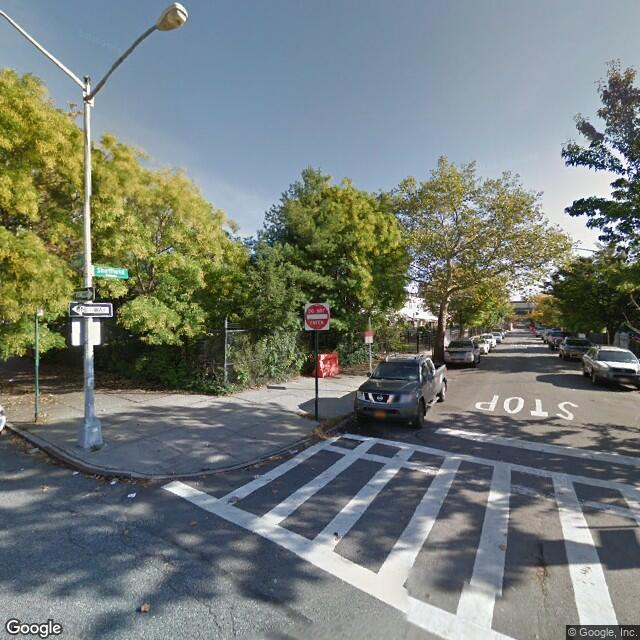litter: (109, 476, 117, 487), (126, 491, 137, 498), (73, 470, 81, 477)
